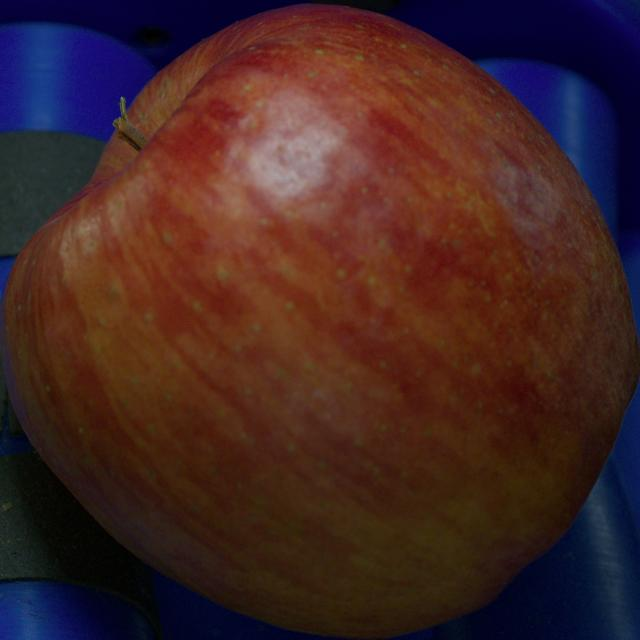apple: (0, 6, 639, 638)
bruise: (485, 152, 575, 236)
